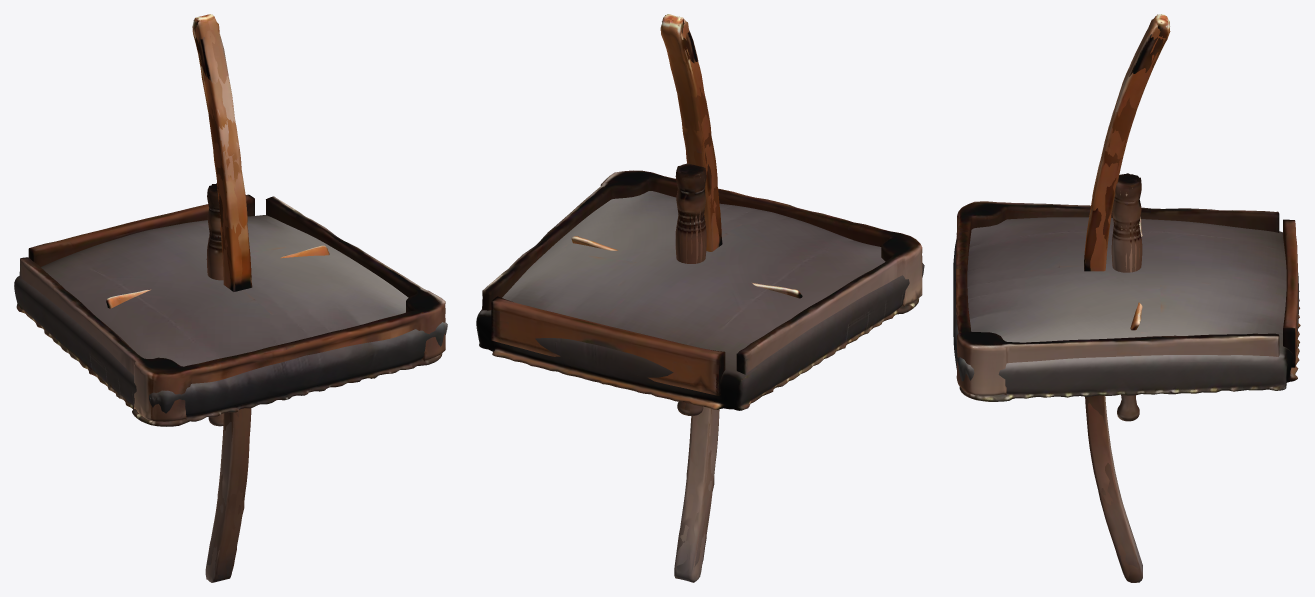
3 views of the same model, side by side, from view 1: azimuth 30°, elevation 25°; view 2: azimuth 150°, elevation 25°; view 3: azimuth 270°, elevation 25° (orthographic). The views are drawn at different scales.
Parts seen in each view (by area): view 1: root.0, root.1, root.3, root.2, root.5, root.4; view 2: root.0, root.1, root.3, root.2, root.5, root.6; view 3: root.0, root.1, root.2, root.3, root.6, root.5.
Boxes of the visible parts, x1,y1,x2,y2 form: root.0: (14,215,447,426); root.1: (19,194,445,421); root.3: (193,14,251,582); root.2: (192,14,252,580); root.5: (206,184,223,426); root.4: (106,245,329,308); root.0: (476,191,924,410); root.1: (482,170,922,395); root.3: (660,14,722,582); root.2: (662,15,721,582); root.5: (675,164,706,415); root.6: (675,163,706,415); root.0: (953,217,1300,401); root.1: (956,201,1297,395); root.2: (1084,14,1169,582); root.3: (1084,14,1170,582); root.6: (1111,174,1142,421); root.5: (1111,173,1142,411).
Bounding box in the file's own units: 20294 × 35832 × 20096.
1 material, 1 textured.
